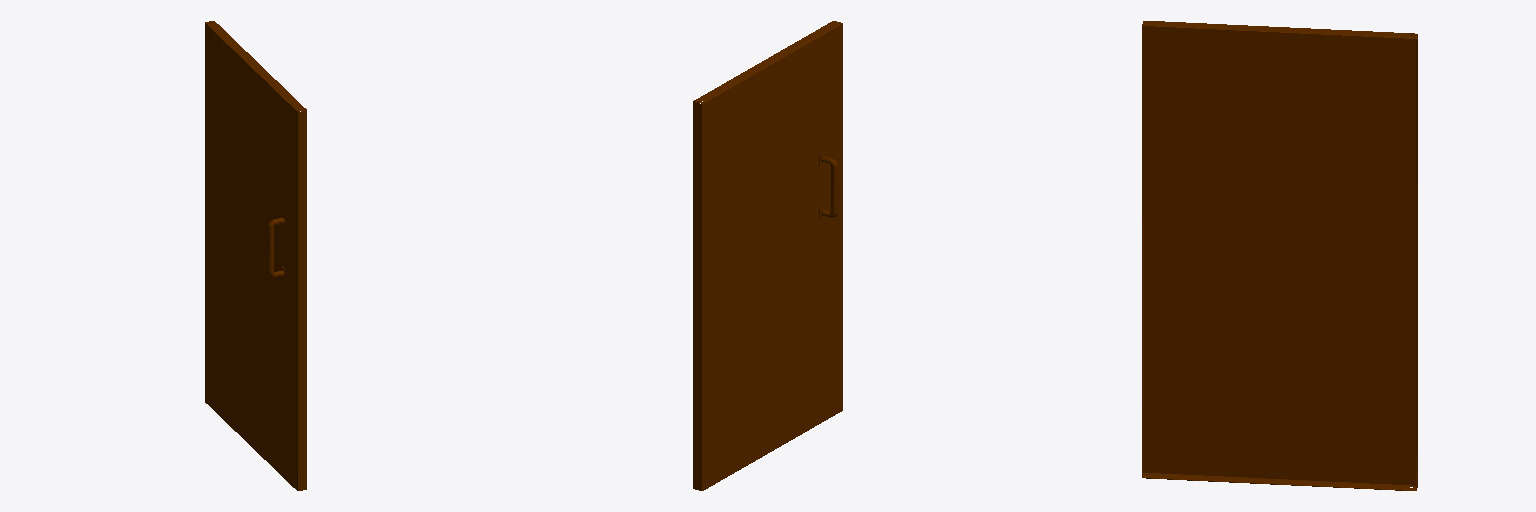
robot.urdf — cupboard_door:
<?xml version="1.0"?>
<robot name="cupboard_door">
<link name="cupboard_door_base_link">
  <inertial>
    <mass value="0.0"/>
    <origin xyz="0 0 0" rpy="1.57 0 0"/>
    <inertia ixx="0.01" ixy="0" ixz="0" iyy="0.01" iyz="0" izz="0.01"/>
  </inertial>

  <visual>
    <origin xyz="0 0 0" rpy="1.57 0 0"/>
    <geometry>
      <mesh filename="package://meshes/cupboard_door.dae" scale="1 0.85 0.85"/>
    </geometry>
    <material name="material_name">
      <color rgba="0.4 0.2 0.0 1.0"/>
    </material>
  </visual>

  <collision>
    <origin xyz="0 0 0" rpy="1.57 0 0"/>
    <geometry>
      <mesh filename="package://meshes/cupboard_door.dae" scale="1 0.85 0.85"/>

      </geometry>
  </collision>
</link>
</robot>

--- Facts derived from the render (not from the file) ---
3 views of the same robot in one strip: view 1: azimuth 30°, elevation 25°; view 2: azimuth 150°, elevation 25°; view 3: azimuth 270°, elevation 25° (orthographic).
Robot: cupboard_door — 1 links, 0 joints (none); root link cupboard_door_base_link; default pose: every joint at zero.
Visible links, largest first — view 1: cupboard_door_base_link; view 2: cupboard_door_base_link; view 3: cupboard_door_base_link.
Boxes of the visible links, bbox=[...] form: cupboard_door_base_link: bbox=[205, 21, 306, 490]; cupboard_door_base_link: bbox=[693, 21, 842, 490]; cupboard_door_base_link: bbox=[1142, 21, 1417, 490].
Size in the robot's own frame: 0.1847 by 0.8467 by 1.53 metres.
Meshes: 1 distinct files referenced, 1 mesh visuals loaded (1 Collada DAE).
